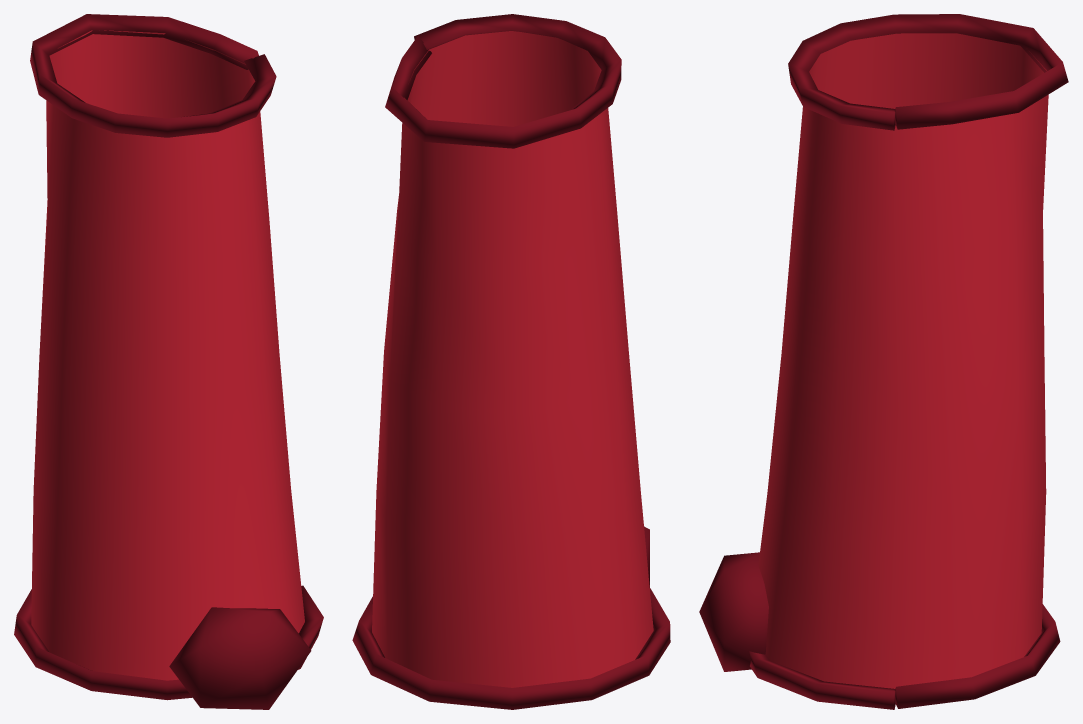
File: adamantite_armor_greave.L.glb
3 views of the same model, side by side, from view 1: azimuth 30°, elevation 25°; view 2: azimuth 150°, elevation 25°; view 3: azimuth 270°, elevation 25° (orthographic). The views are drawn at different scales.
Visible parts, largest first — view 1: adamantite_armor_greave.L; view 2: adamantite_armor_greave.L; view 3: adamantite_armor_greave.L.
Part boxes in pixels (bbox=[...]): adamantite_armor_greave.L: bbox=[14, 14, 323, 709]; adamantite_armor_greave.L: bbox=[352, 14, 670, 709]; adamantite_armor_greave.L: bbox=[699, 14, 1068, 709].
Bounding box in the file's own units: 0.1942 × 0.4045 × 0.2254.
